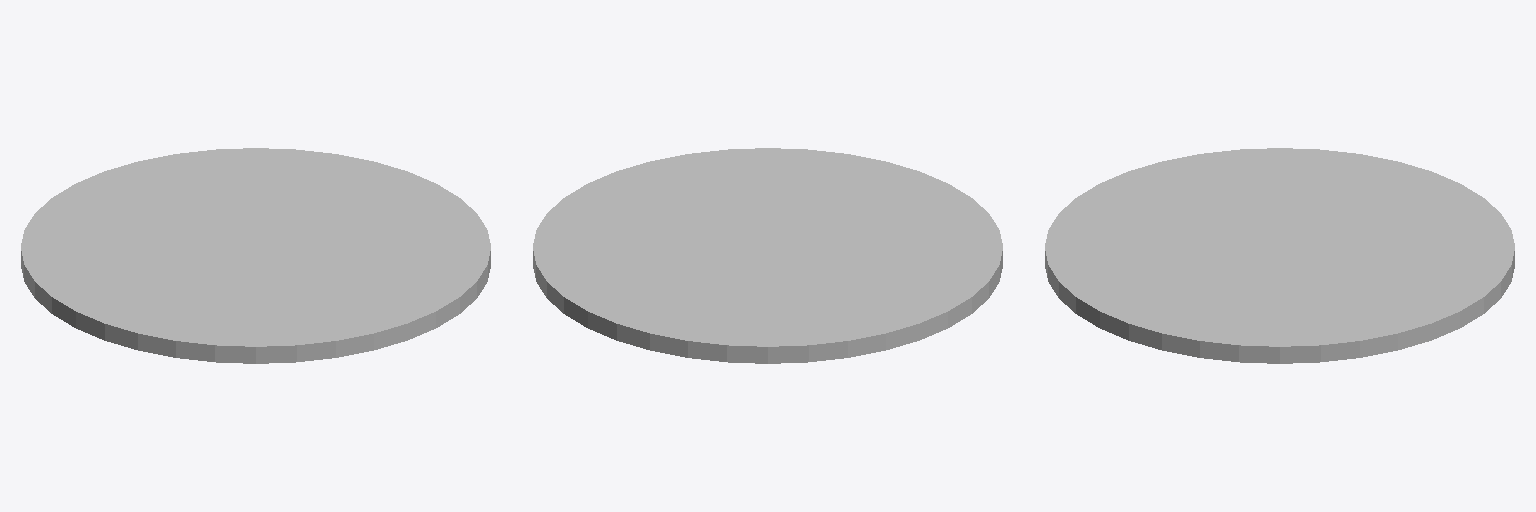
The model's file is scrollWheel.obj.
3 renders of one model, left to right at view 1: azimuth 30°, elevation 25°; view 2: azimuth 150°, elevation 25°; view 3: azimuth 270°, elevation 25°, orthographic.
Visible parts, largest first — view 1: scrollWheel; view 2: scrollWheel; view 3: scrollWheel.
Boxes of the visible parts, x1=… form: scrollWheel: x1=21, y1=148, x2=490, y2=363; scrollWheel: x1=533, y1=148, x2=1002, y2=363; scrollWheel: x1=1045, y1=148, x2=1514, y2=363.
Size of the model in its own units: 2 by 0.08 by 2.